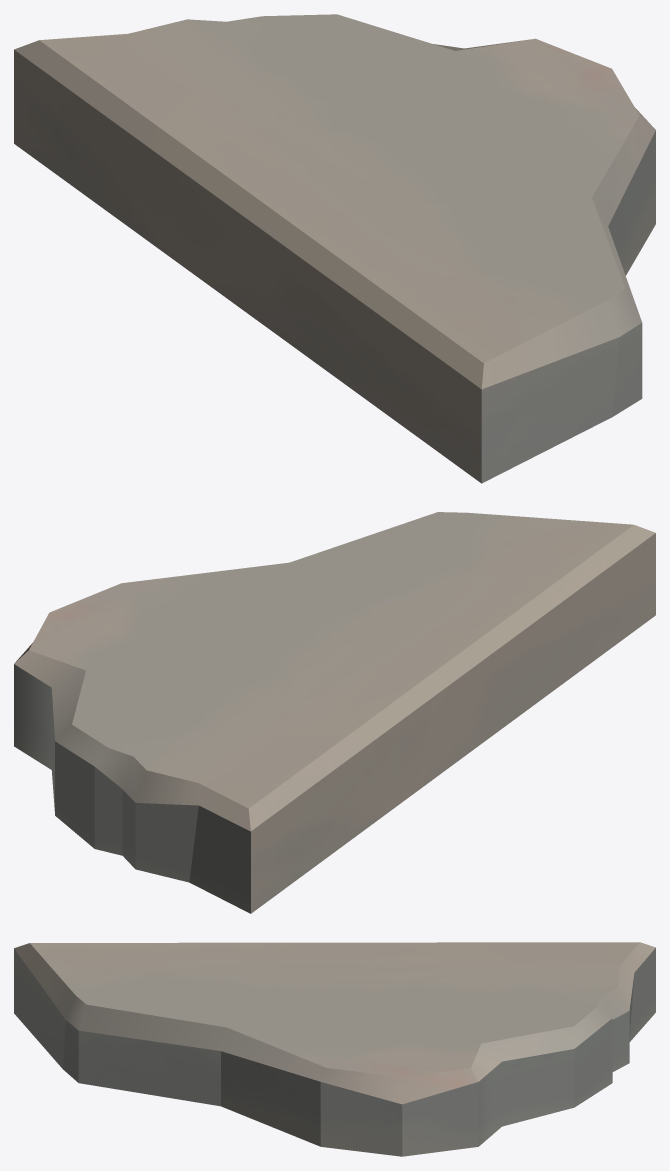
The model's file is rock.fbx.
3 renders of one model, top to bottom at view 1: azimuth 30°, elevation 25°; view 2: azimuth 150°, elevation 25°; view 3: azimuth 270°, elevation 25°, orthographic. The views are drawn at different scales.
Visible parts, largest first — view 1: Rockobj; view 2: Rockobj; view 3: Rockobj.
Boxes of the visible parts, box(x1,y1,x2,y2) form: Rockobj: box(14, 14, 655, 483); Rockobj: box(14, 512, 655, 913); Rockobj: box(14, 942, 655, 1156).
Size of the model in its own units: 1343 by 2525 by 325.
Materials: 1 (1 with a texture image).
